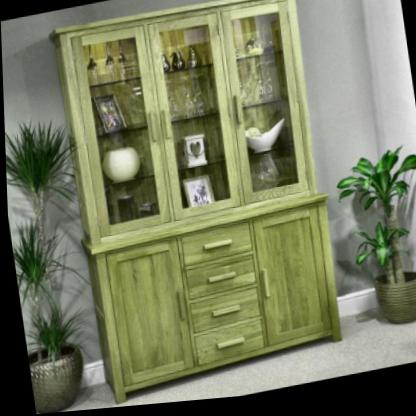Cupboard: (56, 0, 344, 396)
